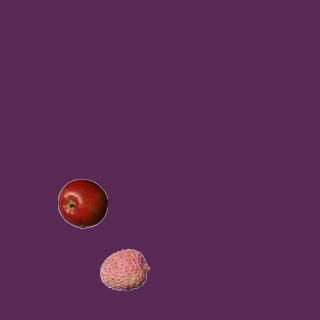Apple Braeburn: (57, 178, 107, 228)
Lychee: (99, 244, 149, 294)
